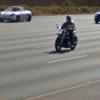Motorcycle: (50, 15, 78, 55)
